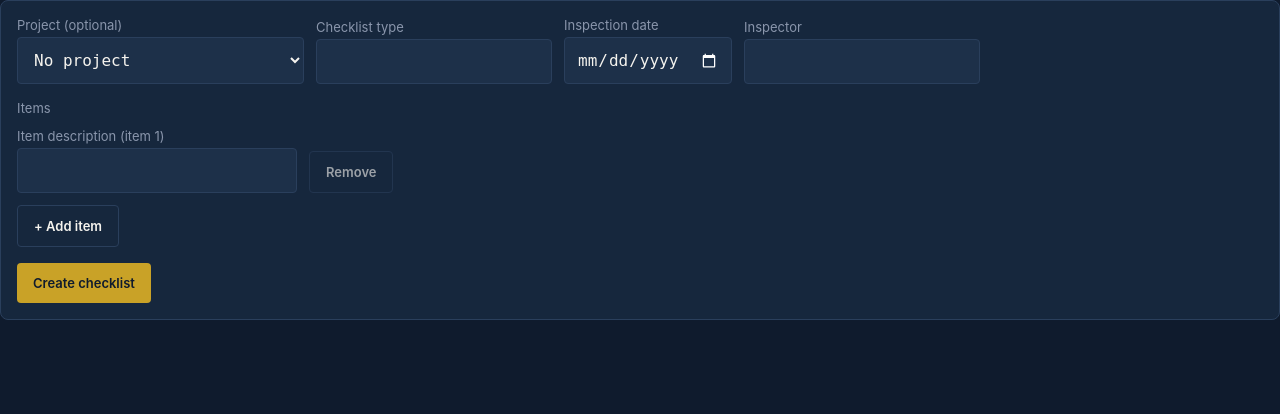
CreateInspectionChecklistForm › removes an item and re-disables Remove once back to one item
The image size is (1280, 414).
Click the button "+ Add item". click: (68, 226)
box: top-left (17, 205), bottom-right (119, 247)
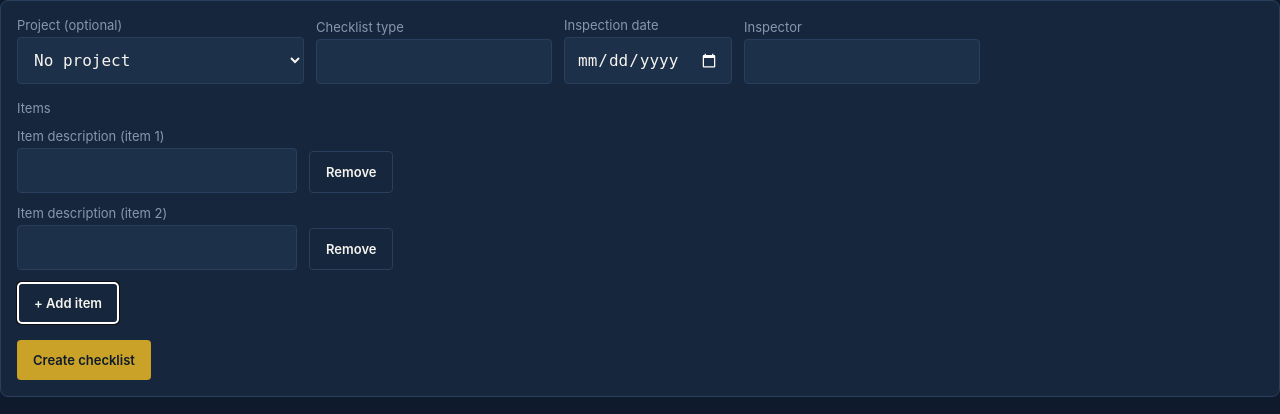
Click the button "Remove" below "Item description (item 2)". click: (351, 249)
box: top-left (309, 228), bottom-right (394, 270)
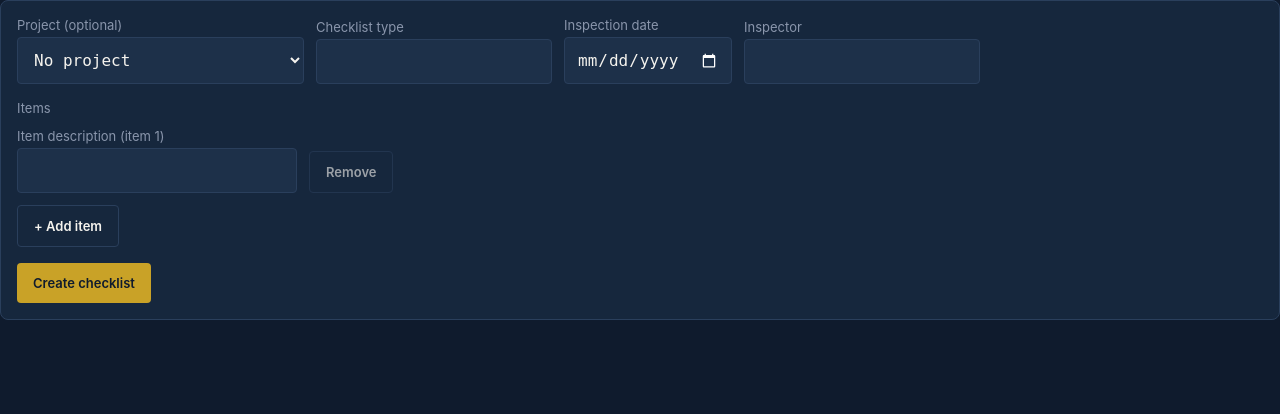
Expected: the label labelled "Item description (item 2)" is gone
Expected: the button "Remove" is disabled, top-left (309, 151), bottom-right (394, 193)
